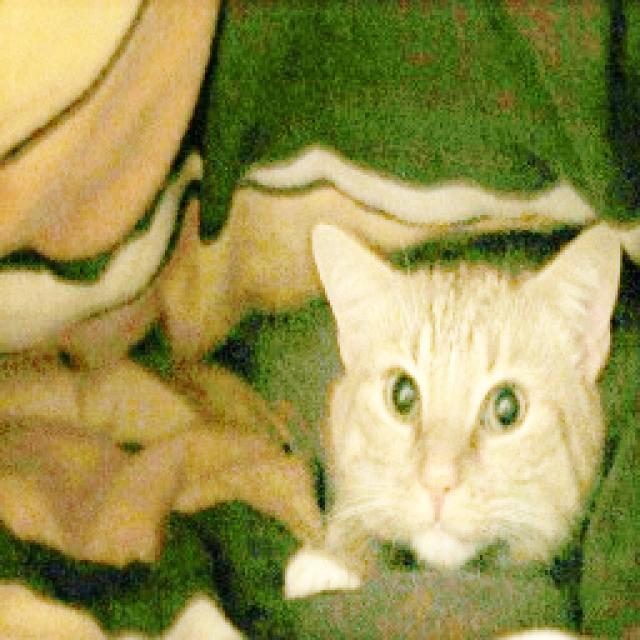cat: (235, 189, 640, 606)
